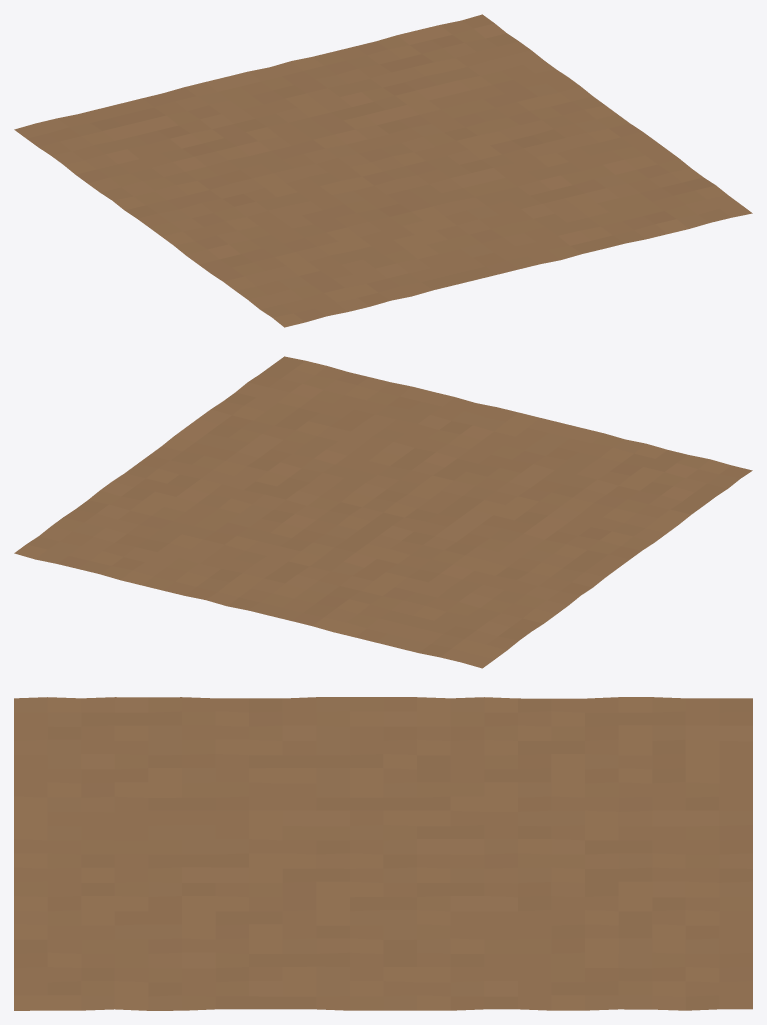
The model's file is dirt.fbx.
3 views of the same model, one above another, from view 1: azimuth 30°, elevation 25°; view 2: azimuth 150°, elevation 25°; view 3: azimuth 270°, elevation 25° (orthographic). The views are drawn at different scales.
Parts seen in each view (by area): view 1: Dirt; view 2: Dirt; view 3: Dirt.
Part boxes in pixels (x1,y1,x2,y2): Dirt: [14, 14, 752, 327]; Dirt: [14, 356, 752, 668]; Dirt: [14, 697, 752, 1010].
Bounding box in the file's own units: 5649 × 13.14 × 5649.
